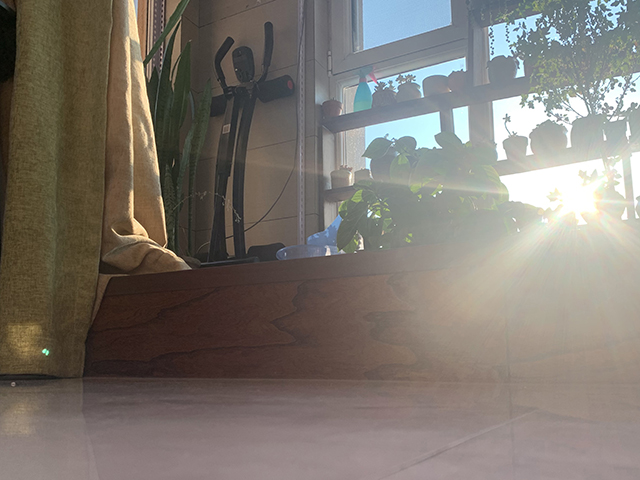curtain: (1, 1, 190, 380)
